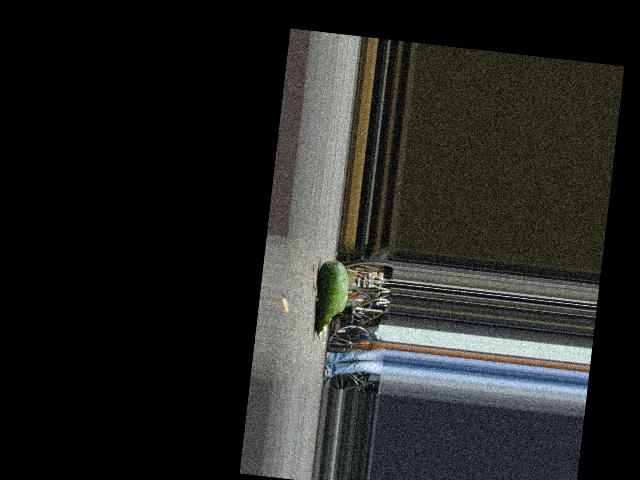cucumber: (311, 259, 351, 342)
